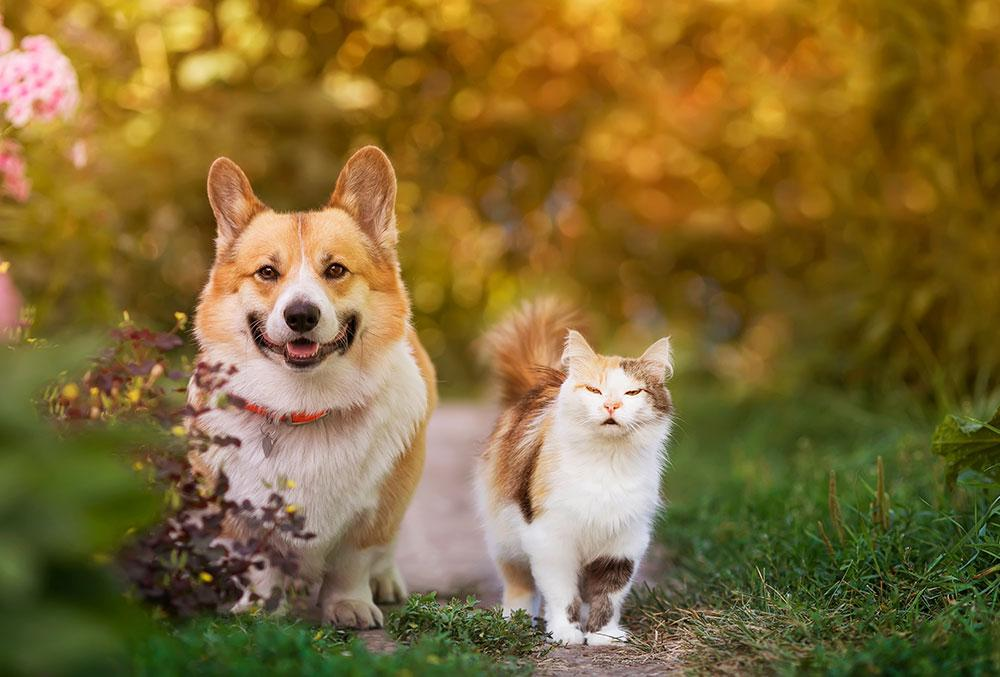cat: (477, 262, 707, 654)
dog: (62, 115, 473, 642)
